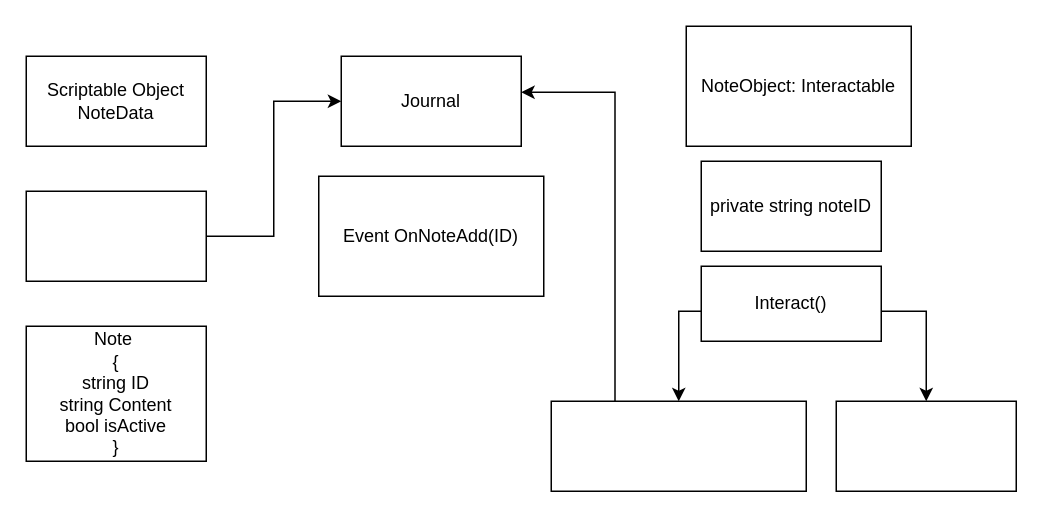
Image size: 1043x518. Some labels were removed from this diagram. The shapes that lost their labels are listed below. From the top down, each one's centre as x and y in pixels, then its label:
At pixel 115 235: "public NoteList<Note>".
At pixel 678 445: "AddNoteToList(string ID)".
At pixel 925 445: "ShowNote(string ID)".
